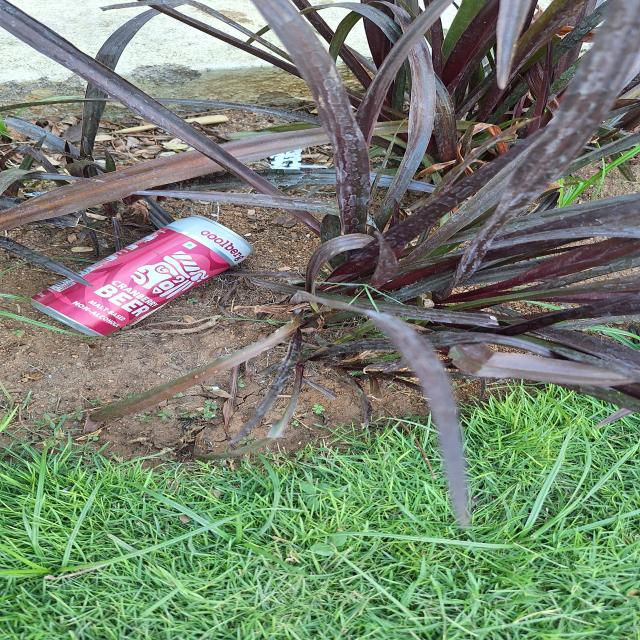Coolberg: (36, 216, 248, 331)
